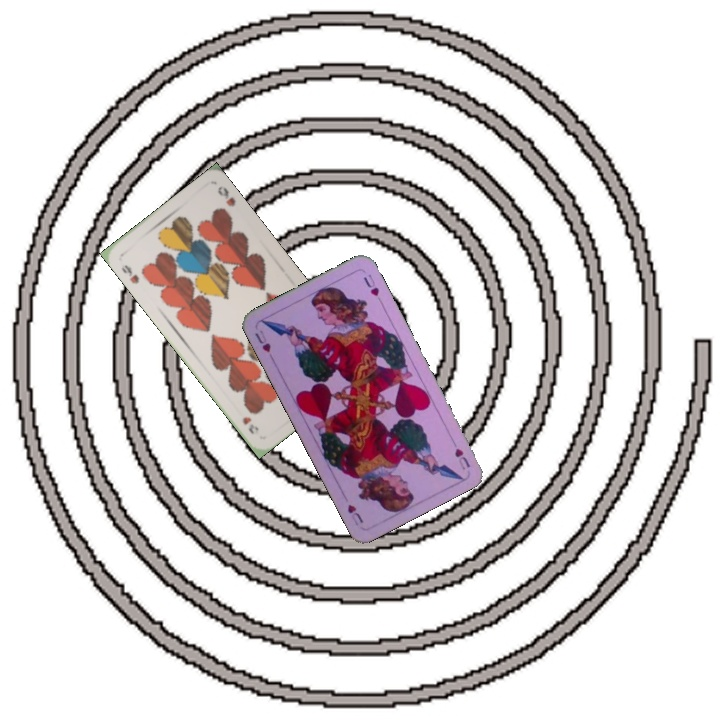H9: (117, 261, 142, 286)
HU: (251, 326, 273, 355), (451, 444, 473, 472)
